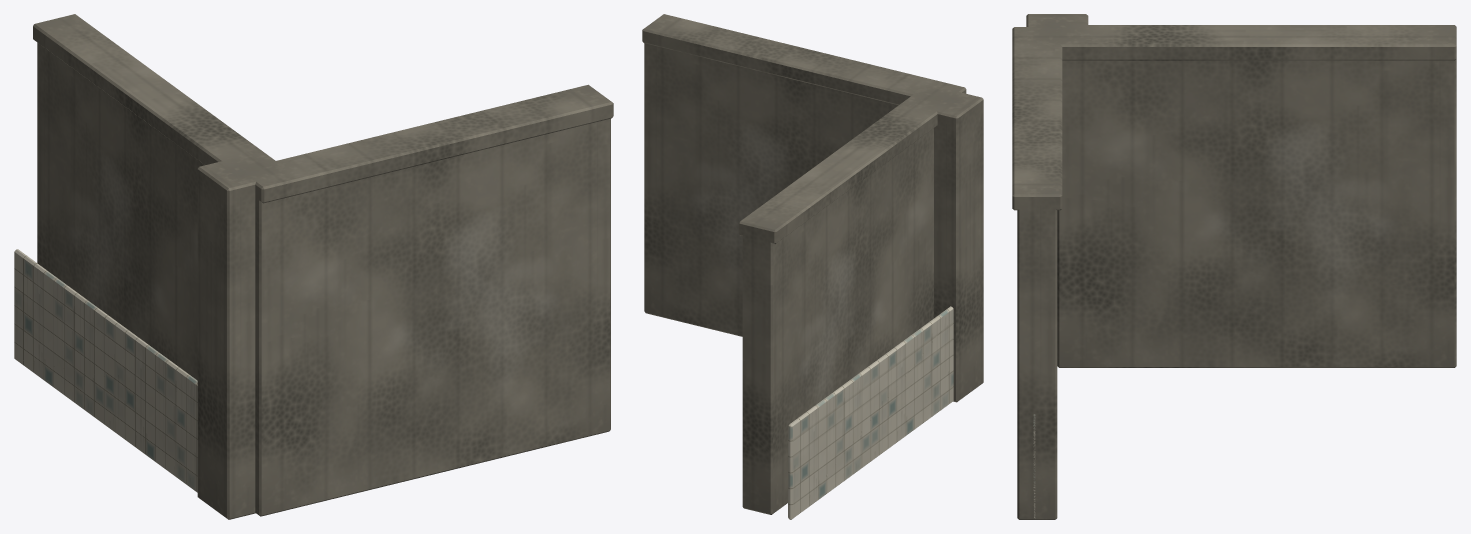
Rendered from WK_WALL_CORNER_OUTER_A_01.glb.
The picture shows the model from 3 angles, left to right: view 1: azimuth 30°, elevation 25°; view 2: azimuth 150°, elevation 25°; view 3: azimuth 270°, elevation 25°; orthographic projection. The views are drawn at different scales.
Visible parts, largest first — view 1: WK_WALL_CORNER_OUTER_A_01; view 2: WK_WALL_CORNER_OUTER_A_01; view 3: WK_WALL_CORNER_OUTER_A_01.
Part boxes in pixels (<box>): WK_WALL_CORNER_OUTER_A_01: <box>14,14,613,519</box>; WK_WALL_CORNER_OUTER_A_01: <box>642,14,983,519</box>; WK_WALL_CORNER_OUTER_A_01: <box>1012,14,1456,519</box>.
Size of the model in its own units: 4.31 by 3.6 by 4.45.
2 materials, 2 textured.
